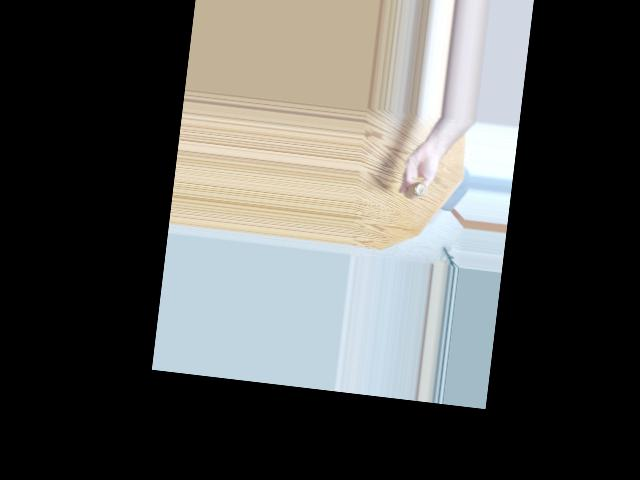sweet_potato: (402, 174, 431, 204)
